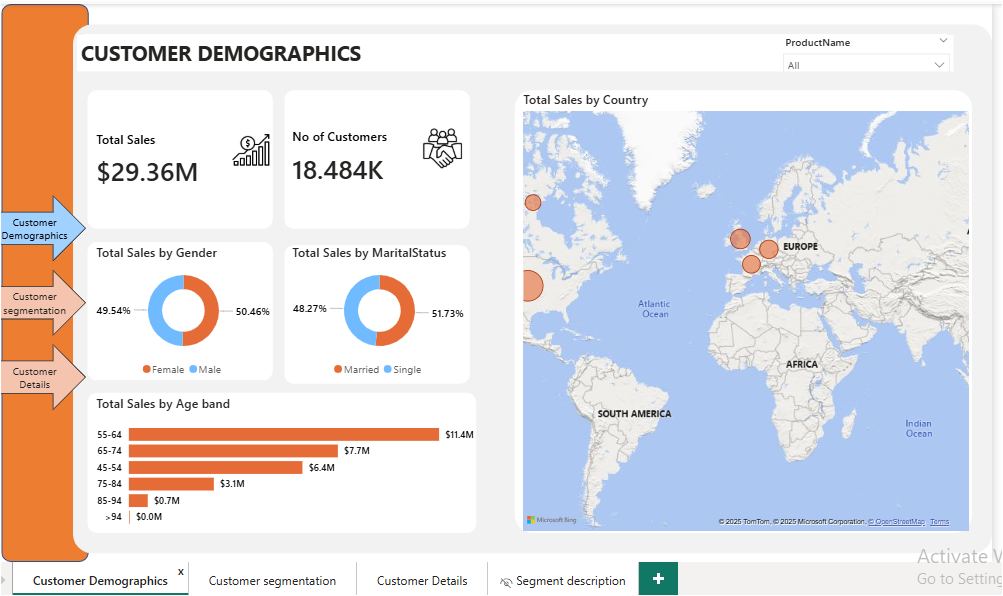

This screenshot's page, from the dashboard's own definition file:
{"tool":"powerbi","page":{"name":"Customer Demographics","canvas":[1280,720],"ordinal":0},"visuals":[{"type":"cardVisual","fields":{"Data":["Sum(FactInternetSales.SalesAmount)"]},"box":[112,112,237.3,174.7],"z":0},{"type":"cardVisual","fields":{"Data":["Count(FactInternetSales.CustomerKey)"]},"box":[365.3,112,237.3,174.7],"z":1000},{"type":"donutChart","fields":{"Y":["Sum(FactInternetSales.SalesAmount)"],"Category":["DimCustomer.Gender"]},"box":[111.8,310.3,236.8,175],"z":2000},{"type":"donutChart","fields":{"Y":["Sum(FactInternetSales.SalesAmount)"],"Category":["DimCustomer.MaritalStatus"]},"box":[364.7,310.3,236.8,175],"z":3000},{"type":"clusteredBarChart","fields":{"Y":["Sum(FactInternetSales.SalesAmount)"],"Category":["Age sort.Age band"]},"box":[111.8,504.4,502.9,175],"z":4000},{"type":"map","fields":{"Size":["Sum(FactInternetSales.SalesAmount)"],"Category":["DimGeography.Country"]},"box":[663.2,111.8,586.8,567.6],"z":5000},{"type":"textbox","box":[100,39.7,1130.9,47.1],"z":6000},{"type":"slicer","fields":{"Values":["DimProduct.ProductName"]},"box":[994.1,39.7,236.8,47.1],"z":7000},{"type":"pageNavigator","box":[0,246.6,112,280.6],"z":7001}]}

Visuals, with their boxes on the page's 1280x720 design canvas (x1, y1, x2, y2). These are canvas units, not pixel positions in the 1003x596 screenshot, which may show the page scaled, cropped or inside an application window:
cardVisual - Sum(FactInternetSales.SalesAmount): detection(112, 112, 349, 287)
cardVisual - Count(FactInternetSales.CustomerKey): detection(365, 112, 603, 287)
donutChart - Sum(FactInternetSales.SalesAmount) x DimCustomer.Gender: detection(112, 310, 349, 485)
donutChart - Sum(FactInternetSales.SalesAmount) x DimCustomer.MaritalStatus: detection(365, 310, 602, 485)
clusteredBarChart - Sum(FactInternetSales.SalesAmount) x Age sort.Age band: detection(112, 504, 615, 679)
map - Sum(FactInternetSales.SalesAmount) x DimGeography.Country: detection(663, 112, 1250, 679)
textbox: detection(100, 40, 1231, 87)
slicer - DimProduct.ProductName: detection(994, 40, 1231, 87)
pageNavigator: detection(0, 247, 112, 527)
